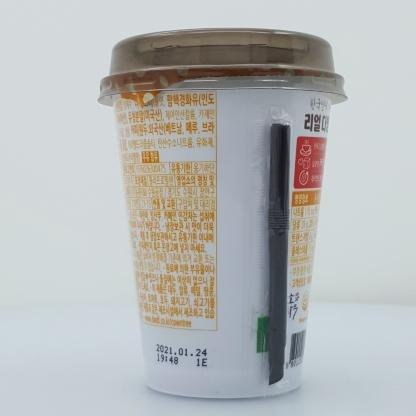---------: (98, 28, 347, 400)
